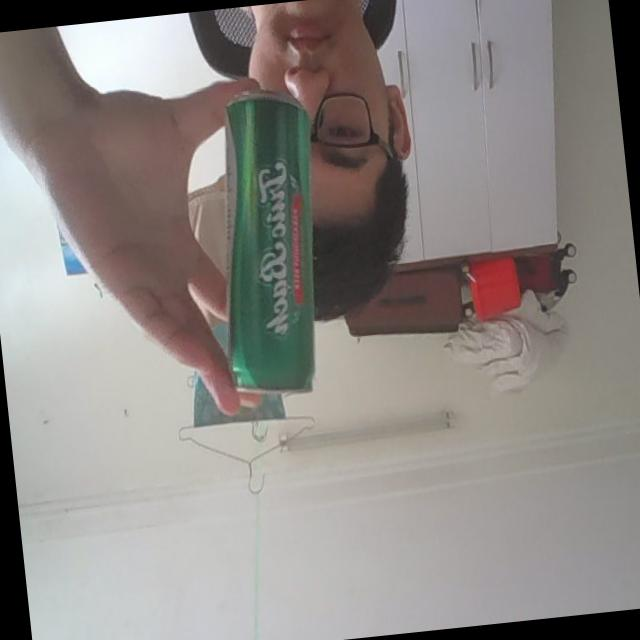Bia-Truc-Bach: (197, 81, 341, 405)
